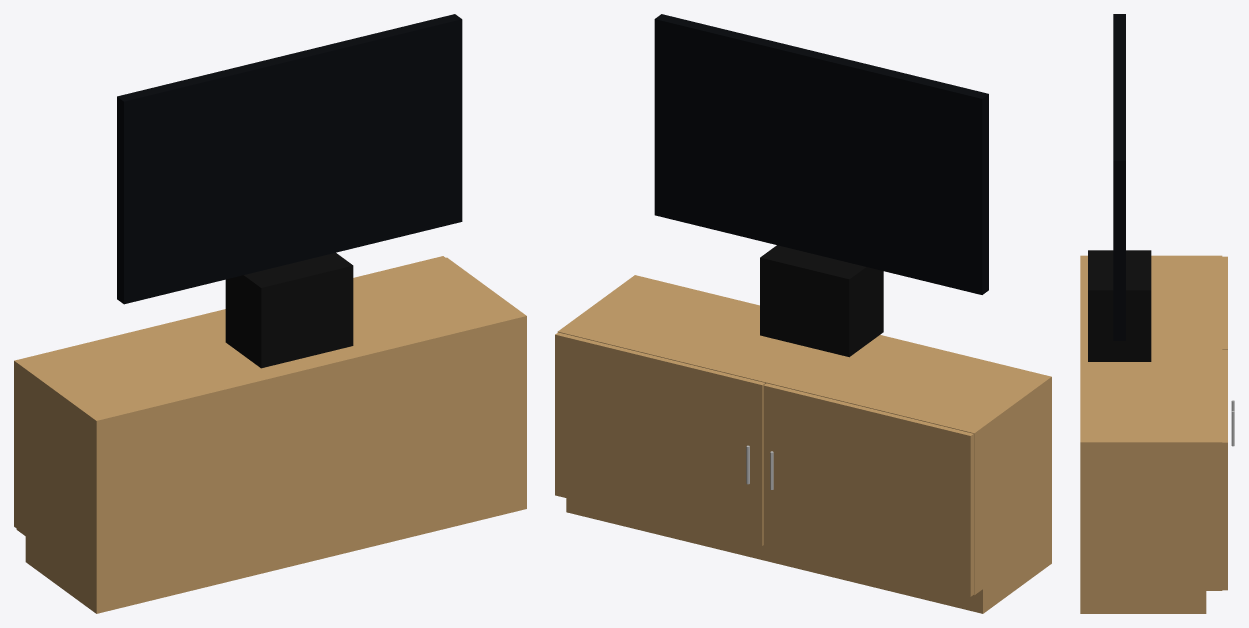
File: hospitality.hotel.tv_console.glb
3 renders of one model, left to right at view 1: azimuth 30°, elevation 25°; view 2: azimuth 150°, elevation 25°; view 3: azimuth 270°, elevation 25°, orthographic. The views are drawn at different scales.
Visible parts, largest first — view 1: main__glulam, main__screen, main__plastic_black; view 2: main__glulam, main__screen, main__plastic_black; view 3: main__glulam, main__plastic_black, main__screen.
Part boxes in pixels (bbox=[...]): main__glulam: bbox=[14, 256, 526, 613]; main__screen: bbox=[117, 14, 462, 304]; main__plastic_black: bbox=[225, 252, 353, 368]; main__glulam: bbox=[555, 275, 1051, 613]; main__screen: bbox=[654, 14, 988, 294]; main__plastic_black: bbox=[760, 245, 883, 357]; main__glulam: bbox=[1080, 255, 1227, 613]; main__plastic_black: bbox=[1088, 250, 1151, 361]; main__screen: bbox=[1113, 14, 1125, 340].
Bounding box in the file's own units: 1.4 × 1.52 × 0.49.
